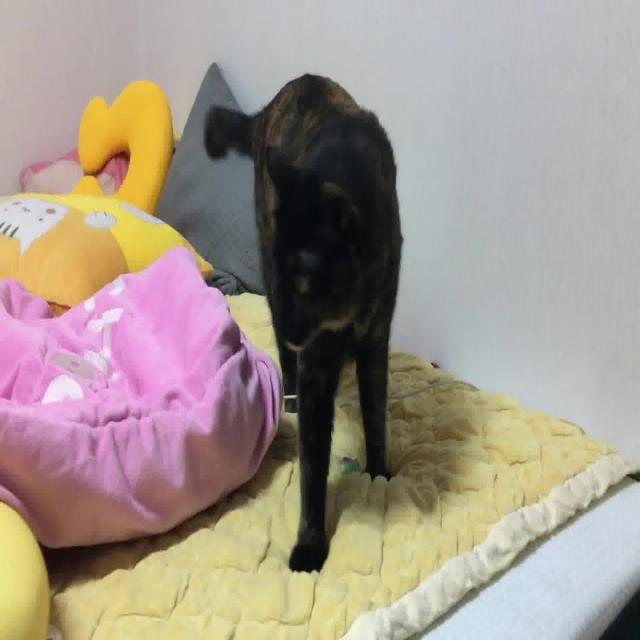cat: (203, 74, 407, 578)
